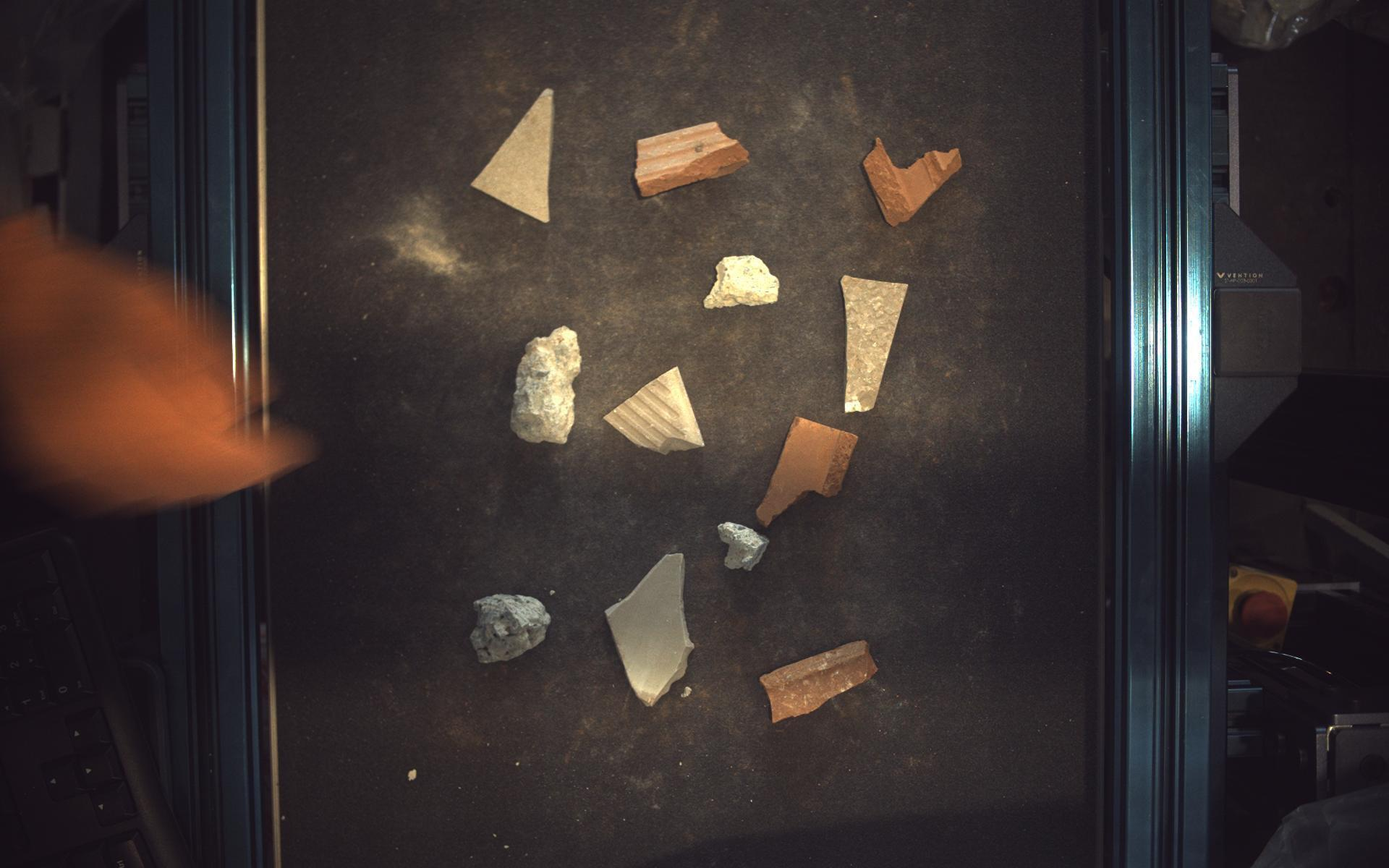brick: (757, 417, 859, 527), (761, 643, 879, 724), (865, 137, 964, 226), (636, 120, 750, 196)
concrete: (511, 326, 582, 444), (470, 595, 551, 665), (705, 255, 780, 308), (718, 524, 770, 571)
tile: (606, 554, 694, 707), (472, 88, 554, 222), (843, 275, 909, 412), (606, 367, 705, 455)
